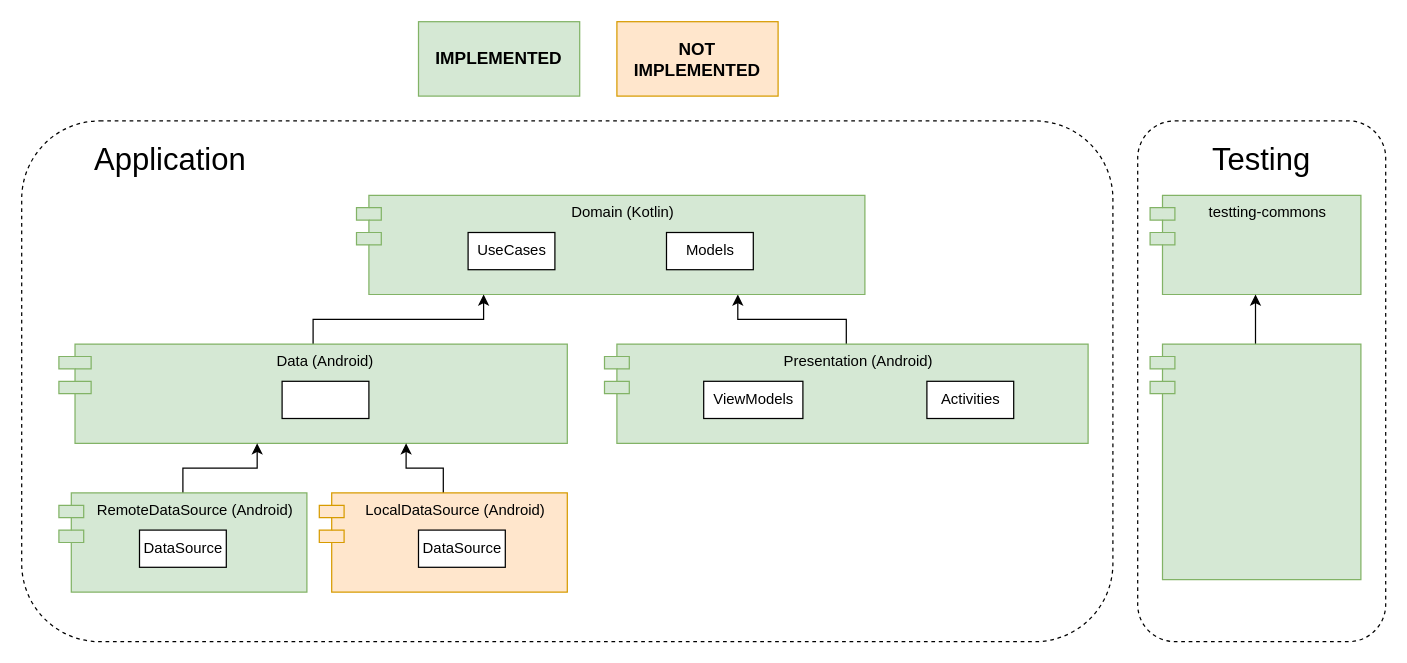
The diagram is 1407 pixels wide and 663 high, and some of its shapes have lost their labels. Here are the shapes that lost their labels. From the top down, the centre of each, then its label:
At (325,399): "Repository".
At (1255,461): "android-testing-common".
